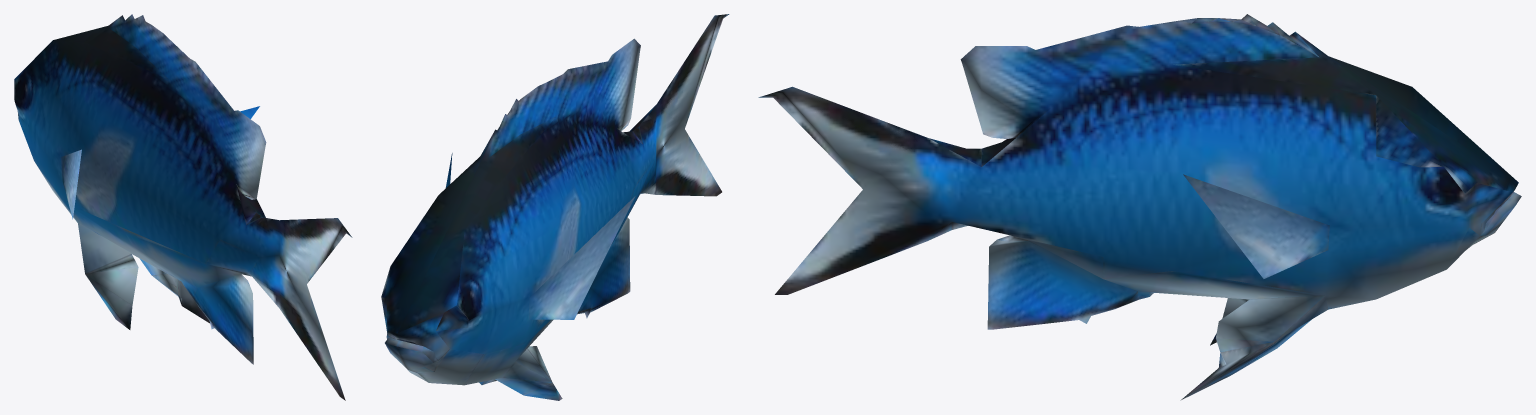
Rendered from chromis_blauw-ver.glb.
3 views of the same model, side by side, from view 1: azimuth 30°, elevation 25°; view 2: azimuth 150°, elevation 25°; view 3: azimuth 270°, elevation 25° (orthographic). The views are drawn at different scales.
Visible parts, largest first — view 1: tripo_node_4eb433a4-a7d7-41fa-b86a-6d8635fd76d8; view 2: tripo_node_4eb433a4-a7d7-41fa-b86a-6d8635fd76d8; view 3: tripo_node_4eb433a4-a7d7-41fa-b86a-6d8635fd76d8.
Part boxes in pixels (bbox=[...]): tripo_node_4eb433a4-a7d7-41fa-b86a-6d8635fd76d8: bbox=[14, 14, 352, 400]; tripo_node_4eb433a4-a7d7-41fa-b86a-6d8635fd76d8: bbox=[381, 14, 729, 400]; tripo_node_4eb433a4-a7d7-41fa-b86a-6d8635fd76d8: bbox=[758, 14, 1521, 400].
Size of the model in its own units: 0.0904 by 0.1483 by 0.286.
Materials: 1 (1 with a texture image).
